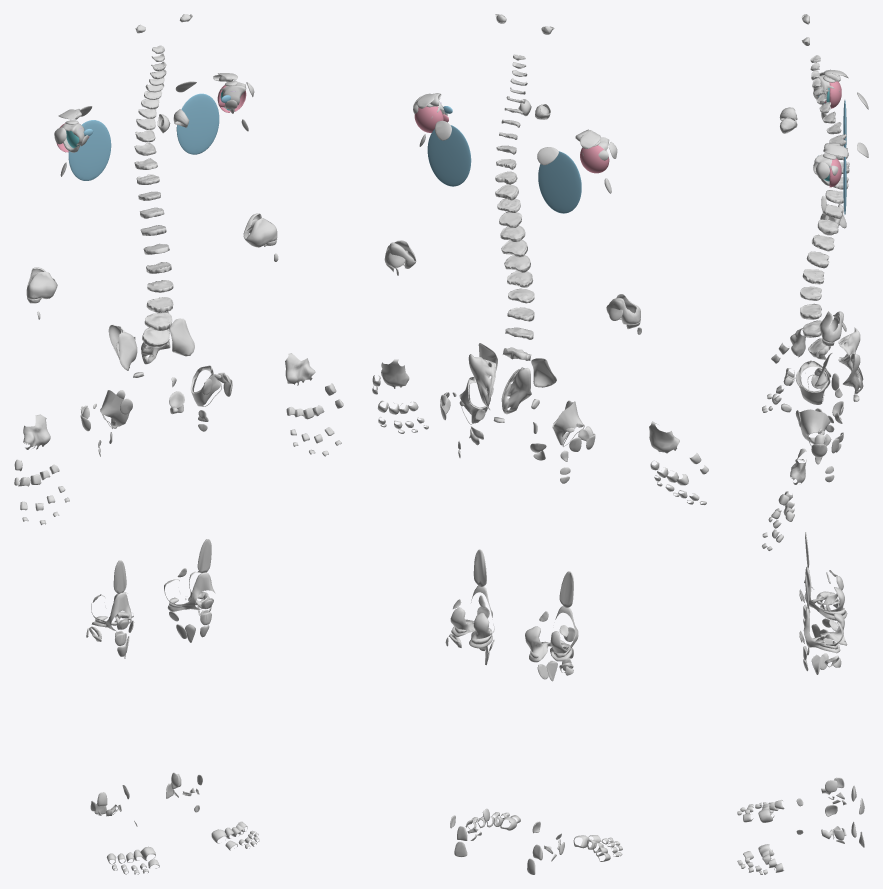
Rendered from z-articulacoes-light.glb.
The picture shows the model from 3 angles, left to right: view 1: azimuth 30°, elevation 25°; view 2: azimuth 150°, elevation 25°; view 3: azimuth 270°, elevation 25°; orthographic projection. The views are drawn at different scales.
Parts seen in each view (by area): view 1: interface-escapulotoracica__HG-interface-escapulotoracica-l, interface-escapulotoracica__HG-interface-escapulotoracica-r, cotovelo__ZA-20b7522d0045f2, cotovelo__ZA-5a9cd8e0b26dd9, joelho__ZA-861071471ec3b0, sacroiliaca__ZA-7c0368c4ee4ec6, radiocarpal__ZA-b39ad4ae0d4115, radiocarpal__ZA-5484c691a021b4; view 2: interface-escapulotoracica__HG-interface-escapulotoracica-r, interface-escapulotoracica__HG-interface-escapulotoracica-l, joelho__ZA-8133a26464c449, joelho__ZA-861071471ec3b0, sacroiliaca__ZA-39f7c973b5a88e, sacroiliaca__ZA-7ae3b960e02402; view 3: joelho__ZA-861071471ec3b0, joelho__ZA-8133a26464c449, coxofemoral__ZA-ac33c90e5b4f81, cotovelo__ZA-20b7522d0045f2, sacroiliaca__ZA-7ae3b960e02402, sacroiliaca__ZA-39f7c973b5a88e, metatarsofalangicas__ZA-4cd7ec615c84c1, radiocarpal__ZA-b39ad4ae0d4115, metatarsofalangicas__ZA-898fb398bf6e17, radiocarpal__ZA-5484c691a021b4, intervertebrais__ZA-46af93e9af4658, labio-acetabular__ZA-7d133108dfa40b (+5 smaller).
Part boxes in pixels (left/top/right/bottom): interface-escapulotoracica__HG-interface-escapulotoracica-l: left=176, top=93, right=219, bottom=154; interface-escapulotoracica__HG-interface-escapulotoracica-r: left=68, top=120, right=111, bottom=180; cotovelo__ZA-20b7522d0045f2: left=243, top=213, right=277, bottom=247; cotovelo__ZA-5a9cd8e0b26dd9: left=26, top=267, right=57, bottom=299; joelho__ZA-861071471ec3b0: left=164, top=571, right=215, bottom=611; sacroiliaca__ZA-7c0368c4ee4ec6: left=170, top=318, right=194, bottom=356; radiocarpal__ZA-b39ad4ae0d4115: left=285, top=353, right=315, bottom=385; radiocarpal__ZA-5484c691a021b4: left=23, top=414, right=50, bottom=449; interface-escapulotoracica__HG-interface-escapulotoracica-r: left=538, top=151, right=581, bottom=213; interface-escapulotoracica__HG-interface-escapulotoracica-l: left=427, top=125, right=471, bottom=186; joelho__ZA-8133a26464c449: left=525, top=606, right=578, bottom=662; joelho__ZA-861071471ec3b0: left=450, top=585, right=494, bottom=648; sacroiliaca__ZA-39f7c973b5a88e: left=501, top=367, right=531, bottom=414; sacroiliaca__ZA-7ae3b960e02402: left=468, top=354, right=495, bottom=409; joelho__ZA-861071471ec3b0: left=803, top=607, right=847, bottom=653; joelho__ZA-8133a26464c449: left=804, top=566, right=847, bottom=620; coxofemoral__ZA-ac33c90e5b4f81: left=799, top=409, right=830, bottom=444; cotovelo__ZA-20b7522d0045f2: left=819, top=311, right=843, bottom=342; sacroiliaca__ZA-7ae3b960e02402: left=838, top=353, right=863, bottom=394; sacroiliaca__ZA-39f7c973b5a88e: left=838, top=327, right=863, bottom=380; metatarsofalangicas__ZA-4cd7ec615c84c1: left=758, top=844, right=783, bottom=872; radiocarpal__ZA-b39ad4ae0d4115: left=790, top=448, right=806, bottom=484; metatarsofalangicas__ZA-898fb398bf6e17: left=758, top=800, right=784, bottom=822; radiocarpal__ZA-5484c691a021b4: left=790, top=328, right=805, bottom=357; intervertebrais__ZA-46af93e9af4658: left=800, top=303, right=821, bottom=319; labio-acetabular__ZA-7d133108dfa40b: left=799, top=360, right=830, bottom=392.
Size of the model in its own units: 0.6615 by 1.57 by 0.2305.
